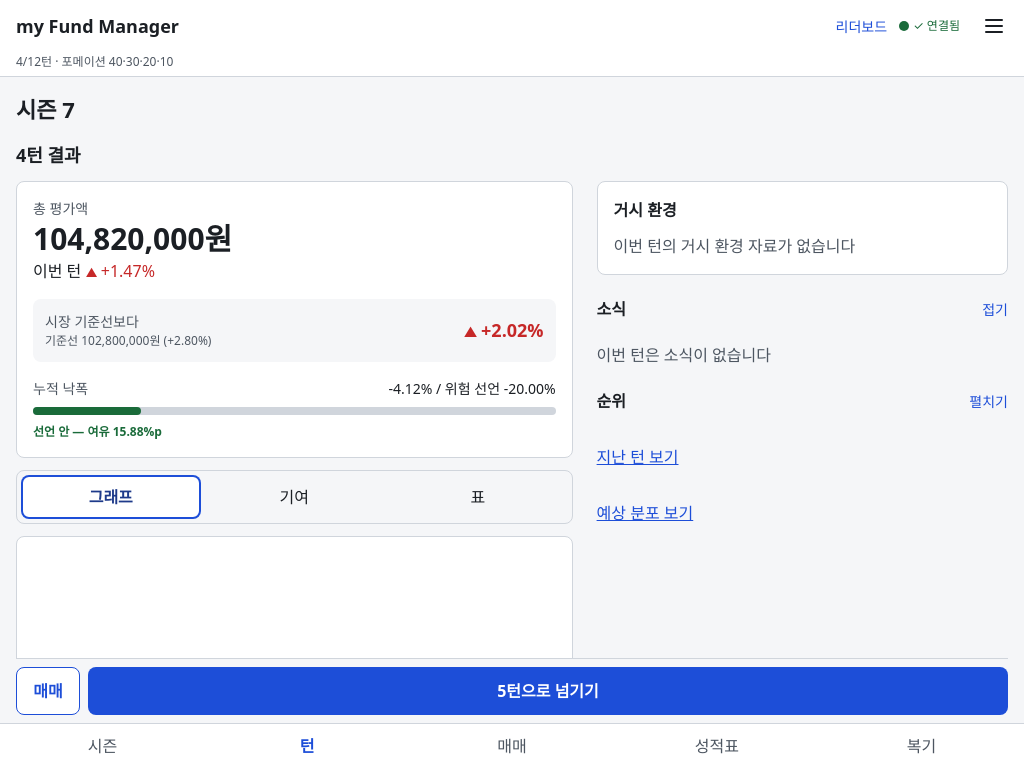
Test case: projection entry links › P10: following the link requests the current team once
Click the link "예상 분포 보기": (645, 513) [597,502,693,524]
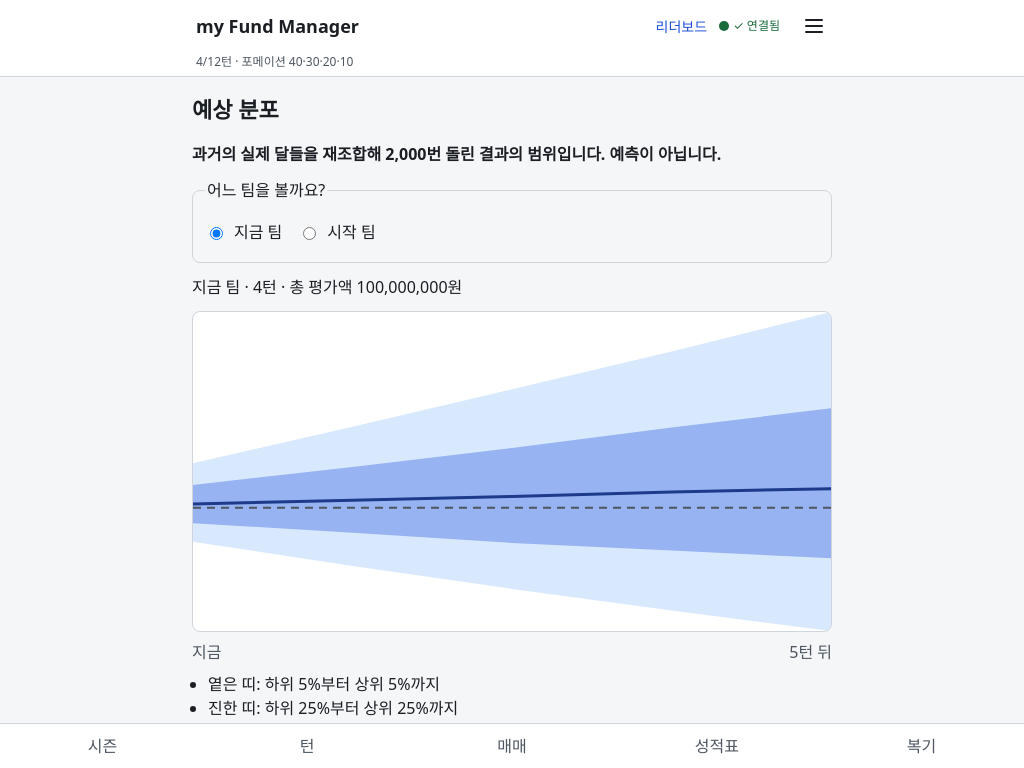
Result: the picture named "예상 분포 띠 그림" is shown at [192,311,832,632]
